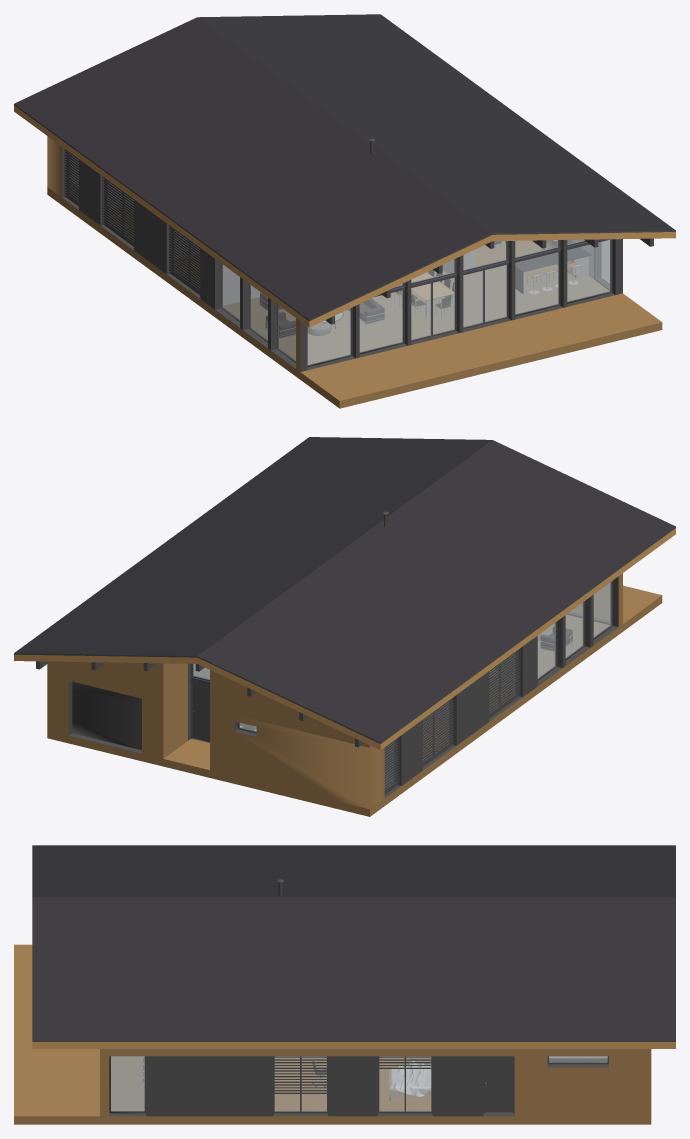
The picture shows the model from 3 angles, top to bottom: view 1: azimuth 30°, elevation 25°; view 2: azimuth 150°, elevation 25°; view 3: azimuth 270°, elevation 25°; orthographic projection. The views are drawn at different scales.
Visible parts, largest first — view 1: building_106, building_69, building_31, building_22, building_77, building_79, building_98, building_5, building_87, building_23, building_38; view 2: building_106, building_69, building_22, building_79, building_98, building_31, building_77; view 3: building_106, building_69, building_79, building_31, building_22, building_98, building_75, building_77, building_5.
Boxes of the visible parts, x1=… form: building_106: x1=14, y1=14, x2=675, y2=319; building_69: x1=47, y1=136, x2=662, y2=408; building_31: x1=69, y1=154, x2=610, y2=364; building_22: x1=14, y1=104, x2=675, y2=369; building_77: x1=223, y1=264, x2=608, y2=364; building_79: x1=62, y1=147, x2=622, y2=371; building_98: x1=14, y1=105, x2=675, y2=327; building_5: x1=223, y1=240, x2=593, y2=305; building_87: x1=505, y1=240, x2=591, y2=293; building_23: x1=260, y1=293, x2=384, y2=337; building_38: x1=476, y1=241, x2=544, y2=266; building_106: x1=14, y1=437, x2=675, y2=742; building_69: x1=47, y1=573, x2=662, y2=816; building_22: x1=14, y1=527, x2=675, y2=797; building_79: x1=68, y1=576, x2=618, y2=785; building_98: x1=14, y1=528, x2=675, y2=750; building_31: x1=193, y1=582, x2=611, y2=789; building_77: x1=538, y1=614, x2=609, y2=677; building_106: x1=32, y1=845, x2=675, y2=1040; building_69: x1=14, y1=944, x2=651, y2=1124; building_79: x1=146, y1=1056, x2=608, y2=1116; building_31: x1=111, y1=1056, x2=607, y2=1111; building_22: x1=32, y1=1040, x2=675, y2=1116; building_98: x1=32, y1=1042, x2=675, y2=1048; building_75: x1=275, y1=1058, x2=430, y2=1110; building_77: x1=111, y1=1056, x2=144, y2=1110; building_5: x1=389, y1=1056, x2=607, y2=1096.
Bounding box in the file's own units: 15 × 5.59 × 21.53.
